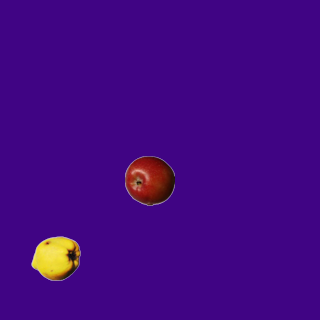Apple Braeburn: (124, 155, 174, 205)
Quince: (30, 233, 80, 283)
